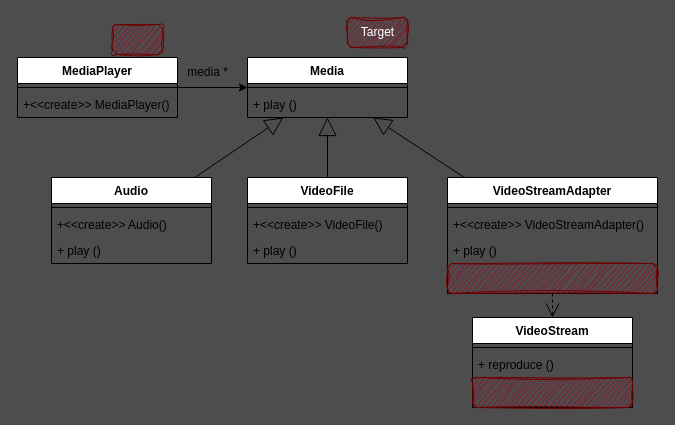
Image size: 675x425. Some labels were removed from this diagram. The box of each missing label's shape, as (x1, y1, x2, y2) in pixels:
Adaptee: (472, 376, 632, 408)
Adapter: (446, 262, 658, 294)
Client: (112, 24, 162, 54)
